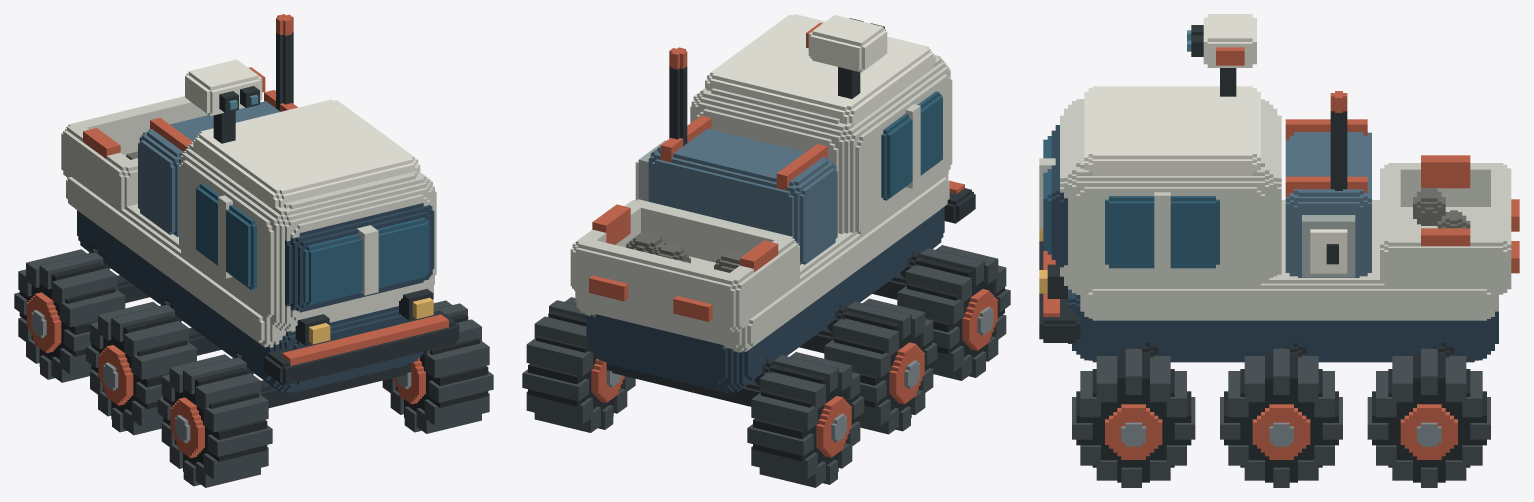
The model's file is exploration_rover.glb.
The picture shows the model from 3 angles, left to right: view 1: azimuth 30°, elevation 25°; view 2: azimuth 150°, elevation 25°; view 3: azimuth 270°, elevation 25°; orthographic projection. The views are drawn at different scales.
Parts seen in each view (by area): view 1: exploration_rover; view 2: exploration_rover; view 3: exploration_rover.
Part boxes in pixels (x1,y1,x2,y2): exploration_rover: (14, 14, 493, 487); exploration_rover: (522, 14, 1010, 487); exploration_rover: (1039, 14, 1519, 487).
Size of the model in its own units: 2.94 by 3.43 by 4.09.
